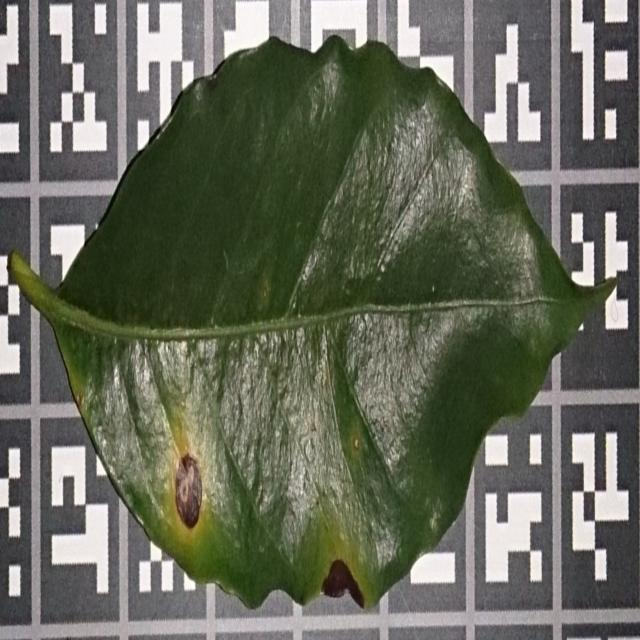Enfermedad-Mancha-de-hierro: (6, 34, 588, 611)
